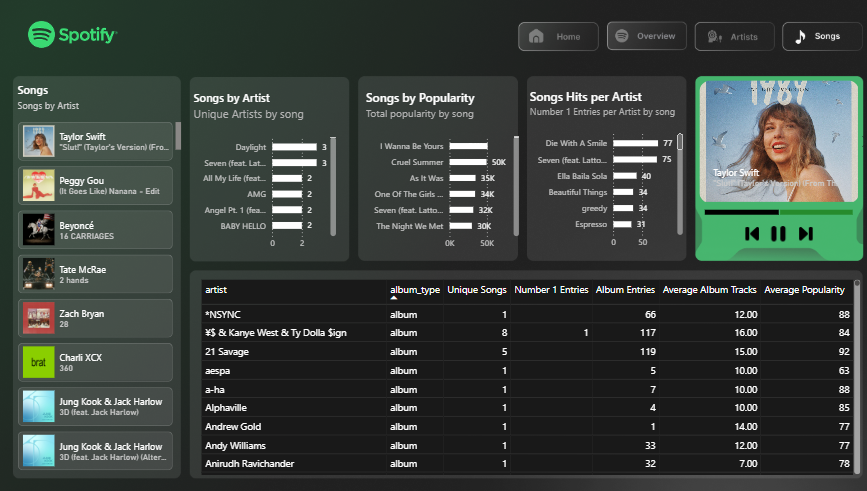

What the dashboard file says about the page in this screenshot:
{"tool":"powerbi","page":{"name":"songs","canvas":[1920,1080],"ordinal":3},"visuals":[{"type":"actionButton","box":[1086,213.7,110,38.3],"z":0},{"type":"actionButton","box":[1211,213.7,110,38.3],"z":1000},{"type":"actionButton","box":[1337.7,213.7,110,38.3],"z":2000},{"type":"actionButton","box":[1464.3,213.7,110,38.3],"z":3000},{"type":"advancedSlicerVisual","title":"Songs ","fields":{"Values":["Top 50 World.song"]},"box":[351.1,298.6,237.1,564.6],"z":4000},{"type":"tableEx","fields":{"Values":["Top 50 World.artist","Top 50 World.album_type","_Measures.Unique Songs","_Measures.Number 1 Entries","_Measures.Album Entries","_Measures.Average Album Tracks","_Measures.Average Popularity"]},"box":[601.7,570,986.7,311.7],"z":8000},{"type":"image","box":[1474.9,507.3,35,22],"z":9000},{"type":"image","box":[1396.8,507.3,35,22],"z":10000},{"type":"image","box":[1435.8,507.3,35,22],"z":11000},{"type":"hundredPercentStackedBarChart","fields":{"Y":["_Measures.Average Popularity","Avg(Top 50 World.popularity)"]},"box":[1330,443.3,246.1,81.4],"z":12000},{"type":"advancedSlicerVisual","title":"Songs ","fields":{"Values":["Top 50 World.song"]},"box":[1316.7,295,271.7,178.3],"z":13000},{"type":"shape","box":[1330,271.7,249.7,287.7],"z":14000},{"type":"clusteredBarChart","title":"Songs by Artist","fields":{"Category":["Top 50 World.song"],"Y":["_Measures.Unique Artists"]},"box":[589.8,294.5,238.2,266.4],"z":14001},{"type":"clusteredBarChart","title":"Songs by Popularity","fields":{"Category":["Top 50 World.song"],"Y":["Sum(Top 50 World.popularity)"]},"box":[839.8,294.5,253.6,266.4],"z":14002},{"type":"clusteredBarChart","title":"Songs Hits per Artist","fields":{"Category":["Top 50 World.song"],"Y":["_Measures.Number 1 Entries"]},"box":[1076.7,293.2,253.6,266.4],"z":14003}]}

Visuals, with their boxes in screenshot pixels (x1, y1, x2, y2), scaled from the page's 1920x1080 canvas onto the 867x491 screenshot:
actionButton: (490,97,540,115)
actionButton: (547,97,597,115)
actionButton: (604,97,654,115)
actionButton: (661,97,711,115)
"Songs " advancedSlicerVisual: (159,136,266,392)
tableEx - Top 50 World.artist x Top 50 World.album_type: (272,259,717,401)
image: (666,231,682,241)
image: (631,231,647,241)
image: (648,231,664,241)
hundredPercentStackedBarChart - _Measures.Average Popularity x Avg(Top 50 World.popularity): (601,202,712,239)
"Songs " advancedSlicerVisual: (595,134,717,215)
shape: (601,124,713,254)
"Songs by Artist" clusteredBarChart: (266,134,374,255)
"Songs by Popularity" clusteredBarChart: (379,134,494,255)
"Songs Hits per Artist" clusteredBarChart: (486,133,601,254)
